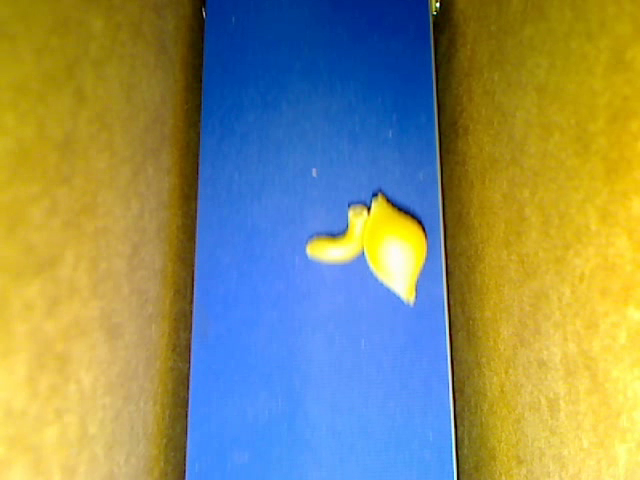elbow: (305, 203, 368, 264)
shell: (363, 192, 427, 306)
